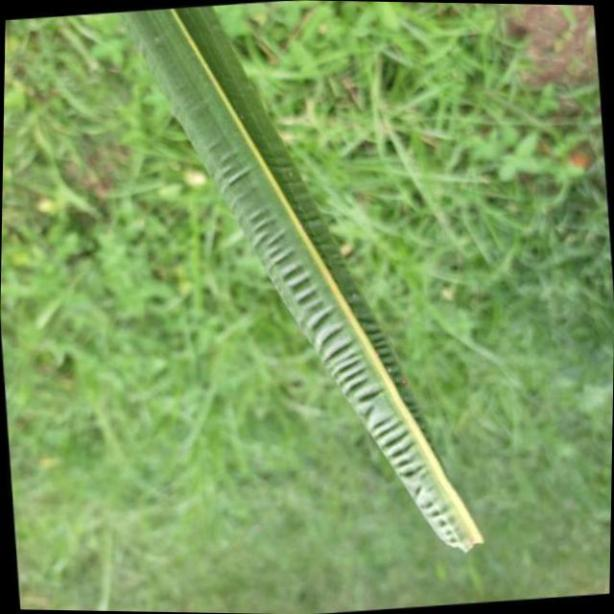Boron: (126, 0, 489, 556)
